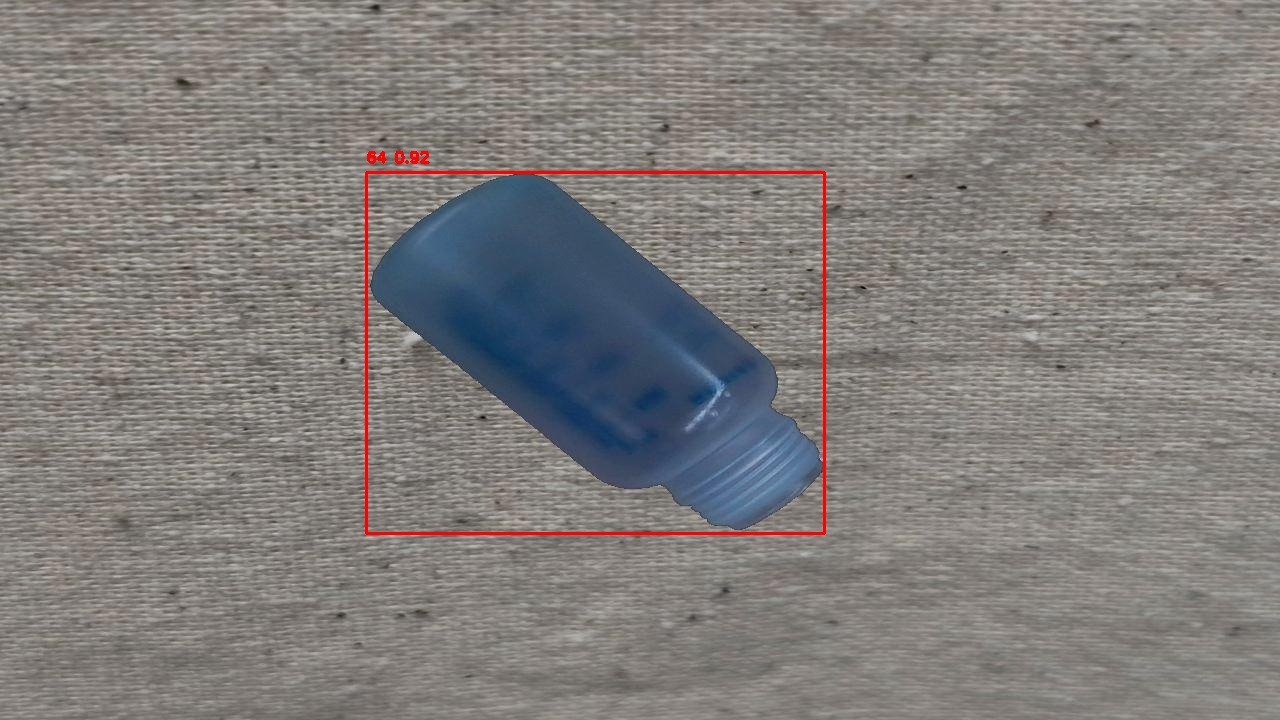cup: (366, 172, 824, 533)
